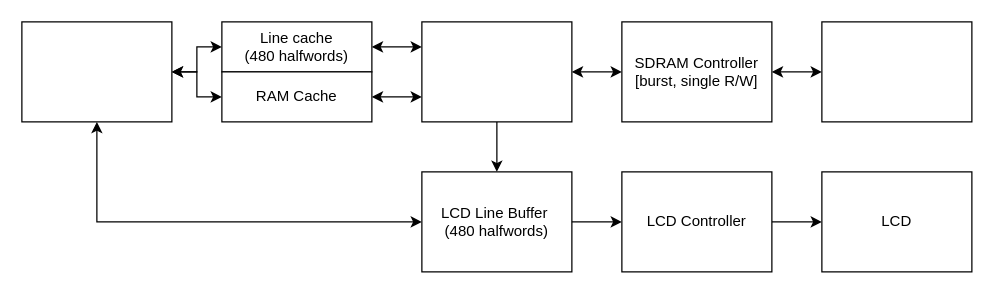
This 994x294 diagram has some shape labels left out. The shapes that lost their labels are listed below. From the top down, each one's centre as x and y in pixels, then its label:
At point 96,71: "PicoRV32 SoC".
At point 496,71: "Memory Arbiter".
At point 896,71: "SDRAM".
